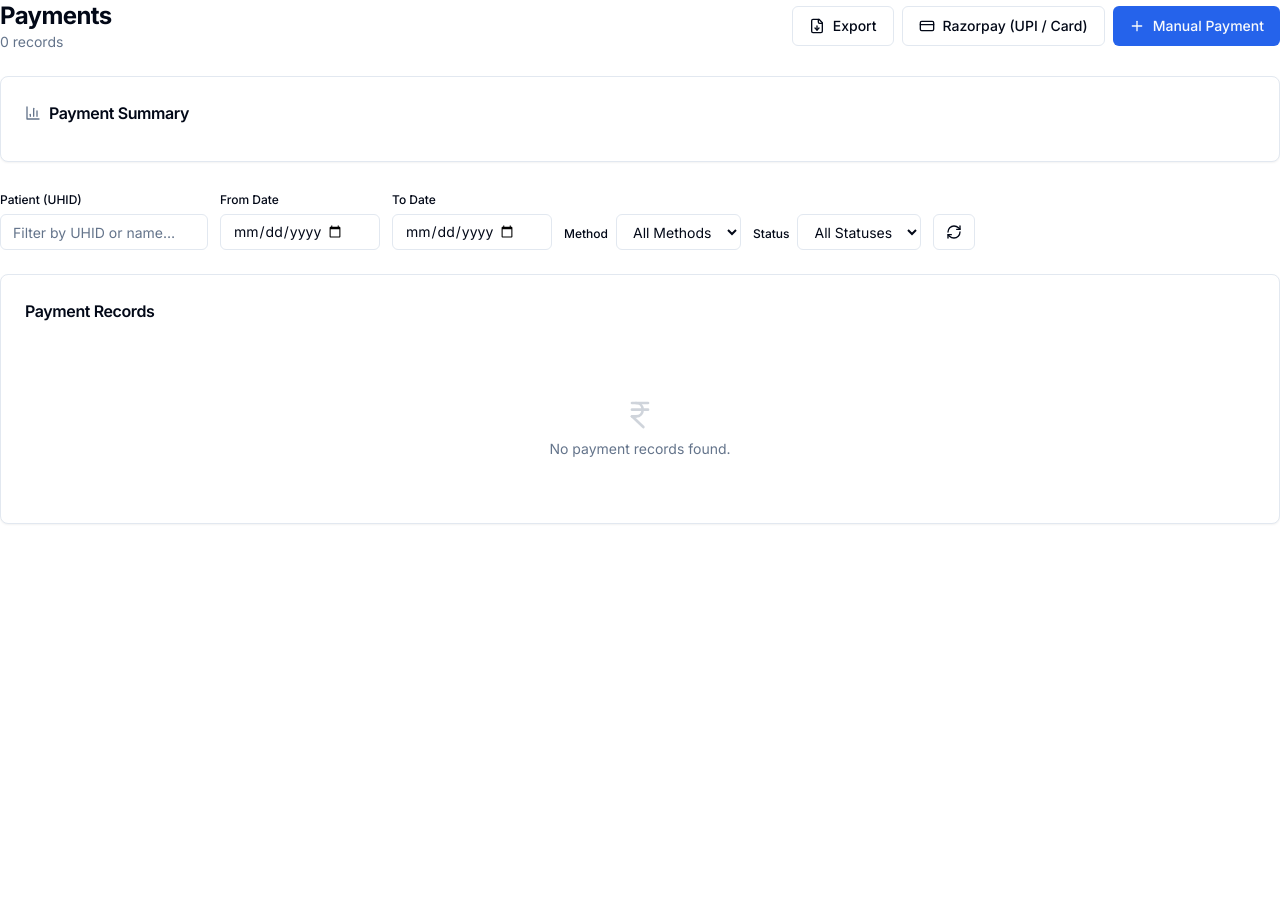
Test case: PaymentsPage — Export › Daily exports the selected date and downloads the file
Click the button "Export" at {"x": 843, "y": 26}, box left=792, top=6, right=894, bottom=46
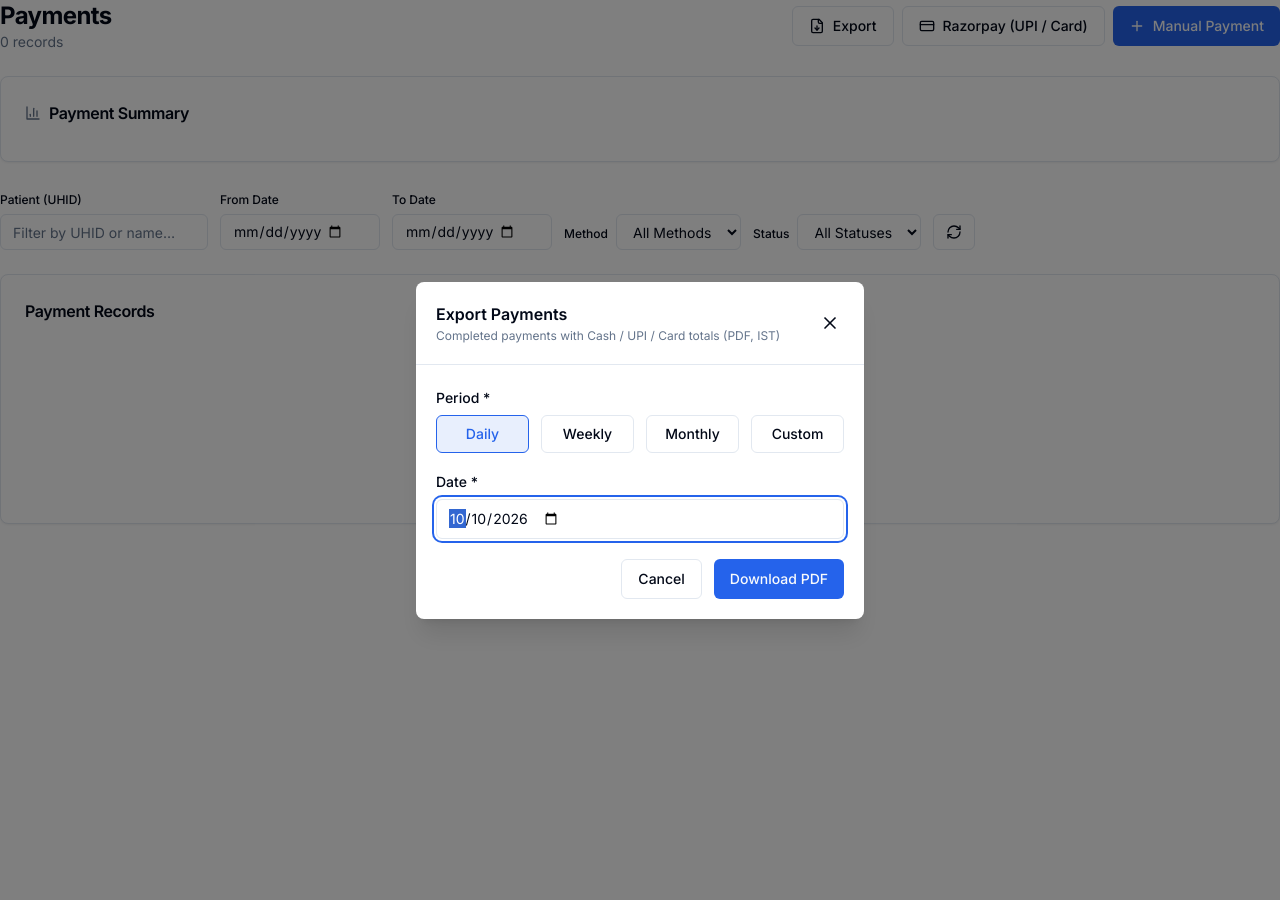
Type "2026-10-01" into the date field labelled "Date *" at {"x": 640, "y": 518}, box left=436, top=498, right=844, bottom=538
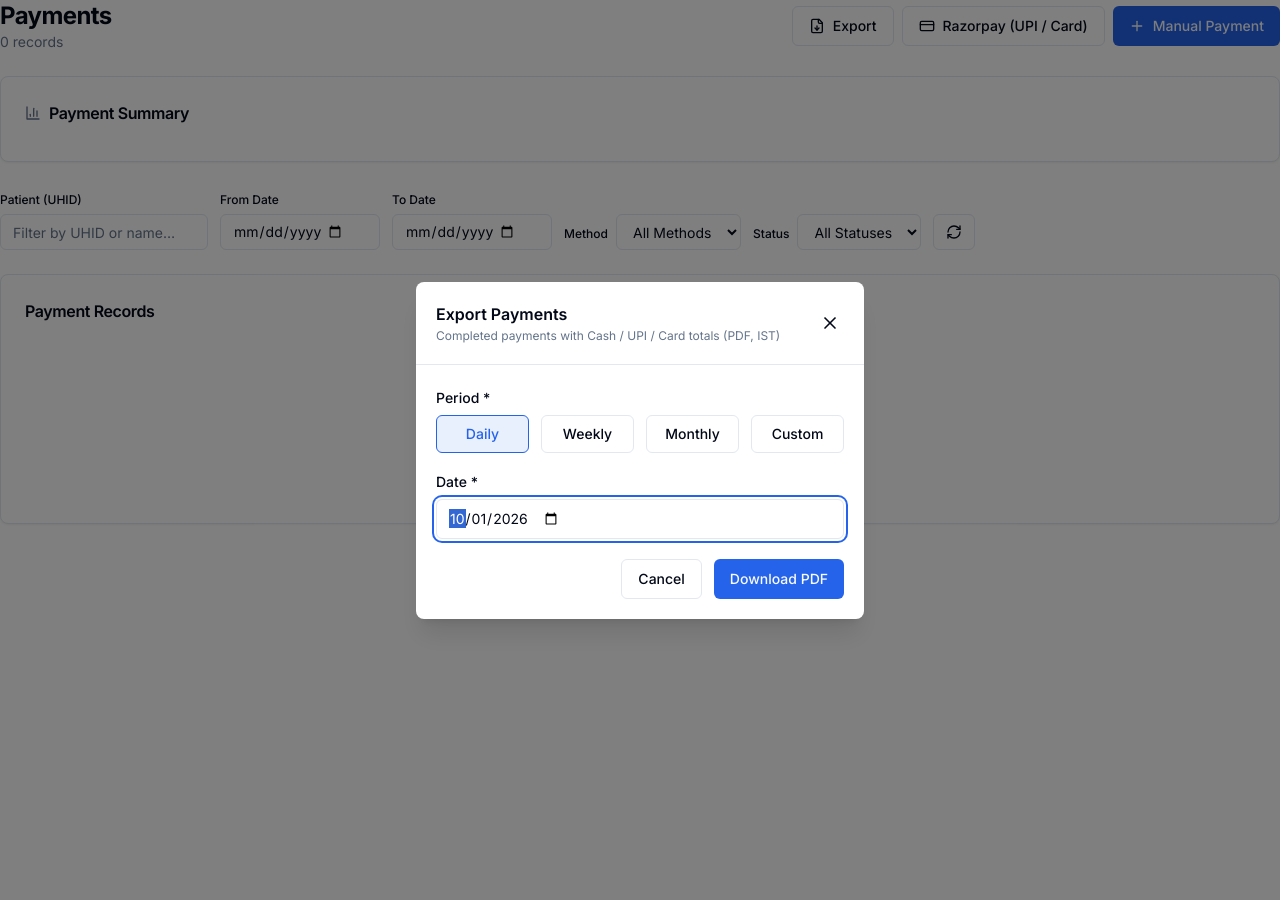
Click the button "Download PDF" at {"x": 779, "y": 578}, box left=714, top=558, right=844, bottom=598
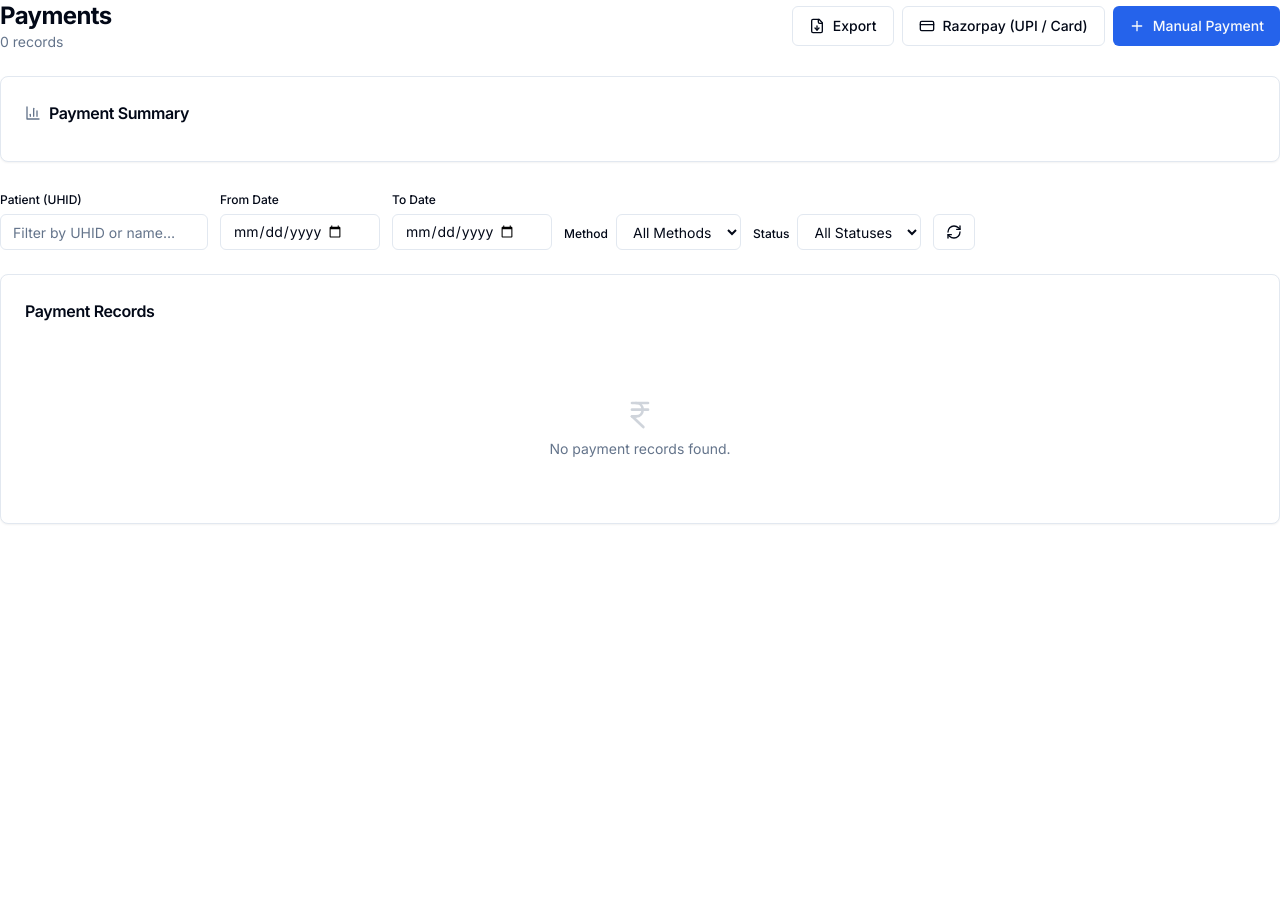
Check: the heading "Export Payments" is gone
